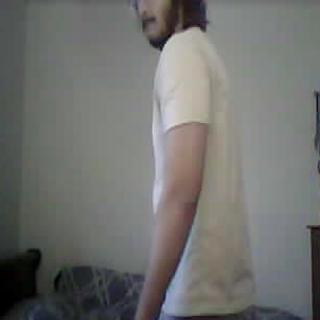Yellow T-Shirt: (146, 27, 258, 316)
